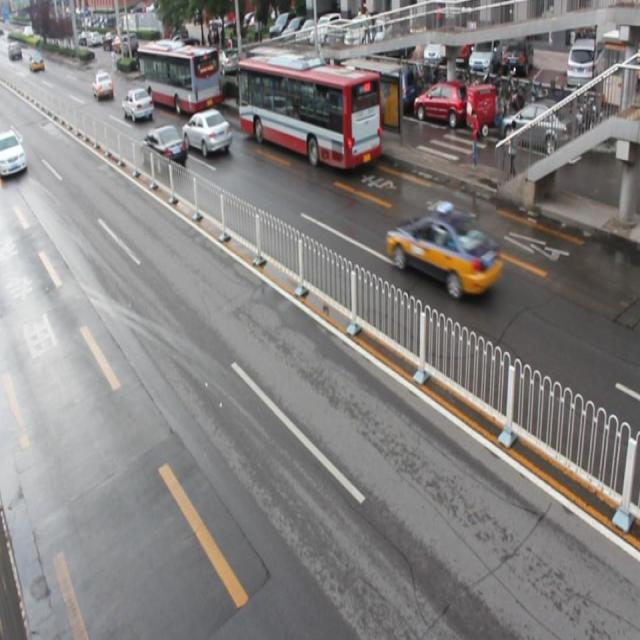car: (386, 208, 501, 296), (183, 108, 232, 158), (139, 124, 187, 175), (123, 87, 154, 123)
van: (238, 56, 380, 168), (137, 43, 222, 111)
